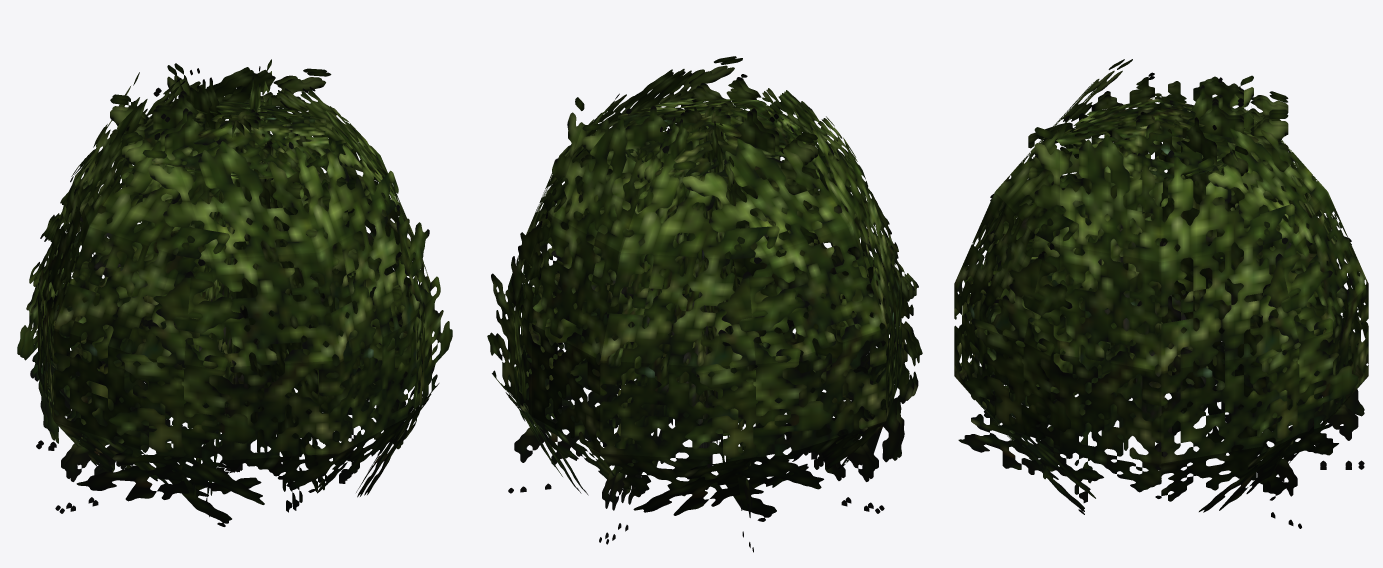
Rendered from berry_scrub_bush.glb.
The picture shows the model from 3 angles, left to right: view 1: azimuth 30°, elevation 25°; view 2: azimuth 150°, elevation 25°; view 3: azimuth 270°, elevation 25°; orthographic projection.
Visible parts, largest first — view 1: bush3; view 2: bush3; view 3: bush3.
Boxes of the visible parts, <box> form: bush3: <box>17,59,452,526</box>; bush3: <box>487,56,922,552</box>; bush3: <box>954,59,1368,528</box>.
Bounding box in the file's own units: 1.02 × 1 × 1.02.
Materials: 1 (1 with a texture image).
